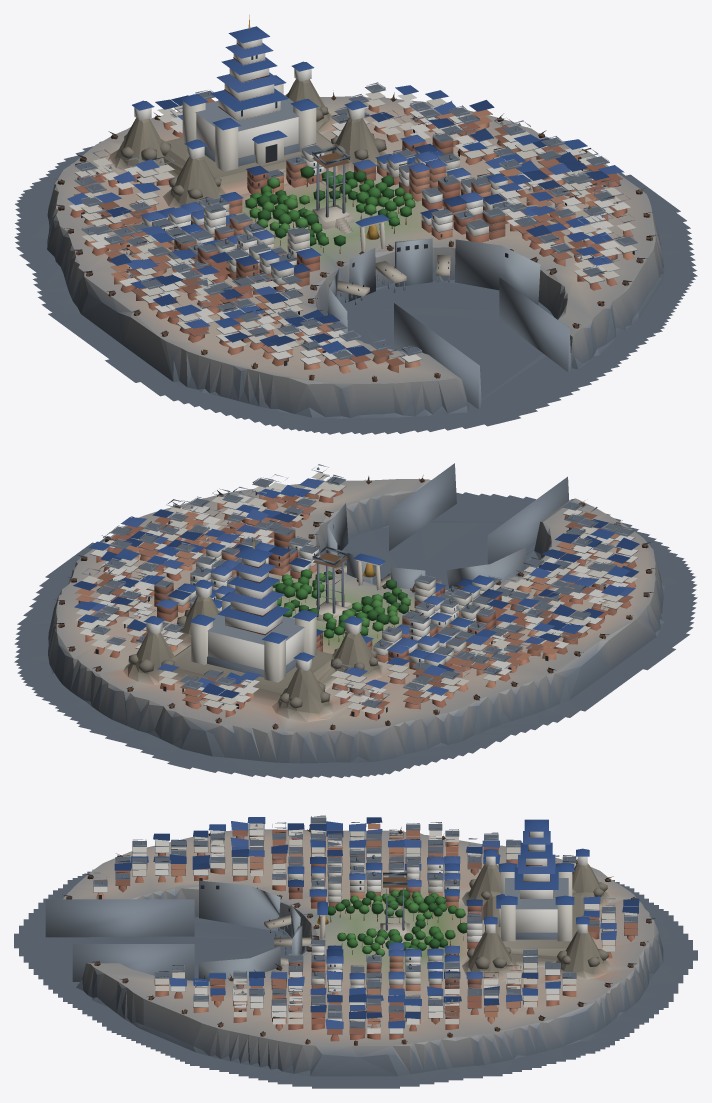
3 views of the same model, one above another, from view 1: azimuth 30°, elevation 25°; view 2: azimuth 150°, elevation 25°; view 3: azimuth 270°, elevation 25° (orthographic). The views are drawn at different scales.
Visible parts, largest first — view 1: BASE, VILLE_3, VILLE_2, VILLE_4; view 2: BASE, VILLE_3, VILLE_2, VILLE_4; view 3: BASE, VILLE_3, VILLE_4, VILLE_2.
Part boxes in pixels (<box>): BASE: <box>14,14,697,434</box>; VILLE_3: <box>67,82,637,373</box>; VILLE_2: <box>91,106,575,316</box>; VILLE_4: <box>327,238,571,408</box>; BASE: <box>14,475,697,778</box>; VILLE_3: <box>73,464,639,720</box>; VILLE_2: <box>105,505,559,709</box>; VILLE_4: <box>326,463,569,589</box>; BASE: <box>14,819,697,1088</box>; VILLE_3: <box>93,815,639,1041</box>; VILLE_4: <box>45,880,302,981</box>; VILLE_2: <box>232,832,600,1014</box>.
Size of the model in its own units: 60 by 17.3 by 70.
